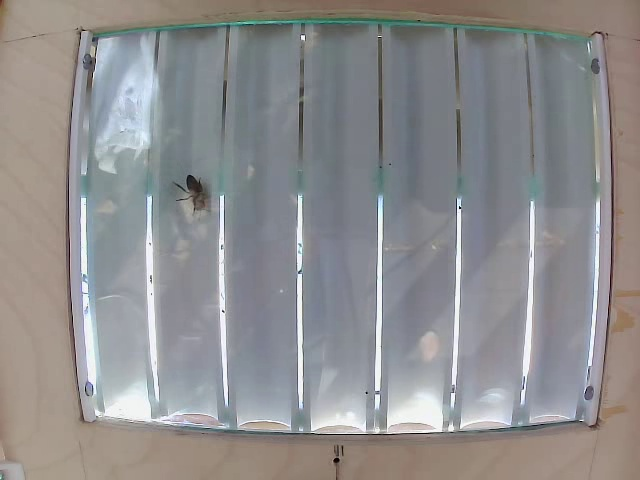bee: (166, 163, 210, 224)
